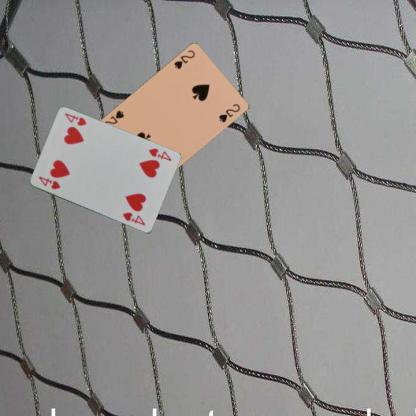2s: (172, 48, 196, 70)
4h: (36, 173, 61, 191), (146, 146, 172, 162)
